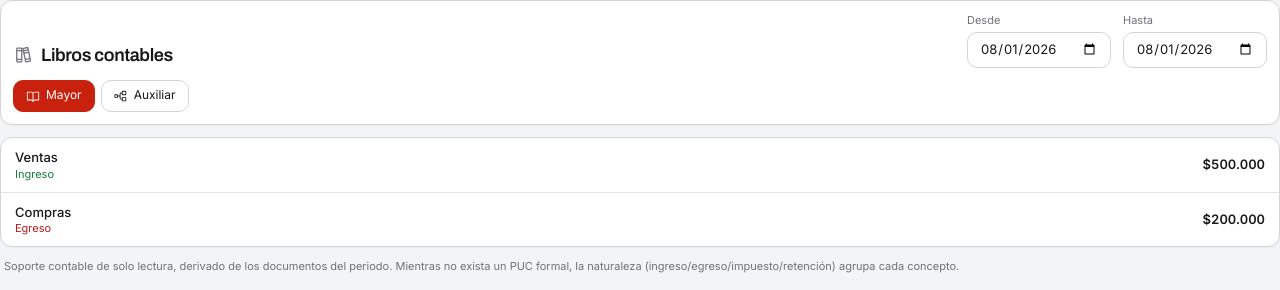
Test case: TabLibros › admin ve el Libro Mayor y puede cambiar a Auxiliar
Expected: the text "ventas" is shown, [15,149,58,165]
Expected: the text "$500.000" is shown, [1203,155,1265,174]
Click the button "Auxiliar" at (145, 96), box [101,80,188,112]
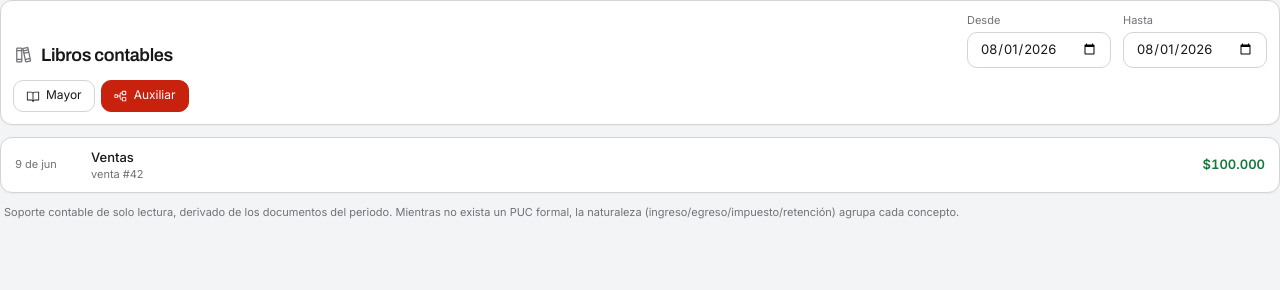
Result: the text "venta #42" is shown at [91,167,144,181]
